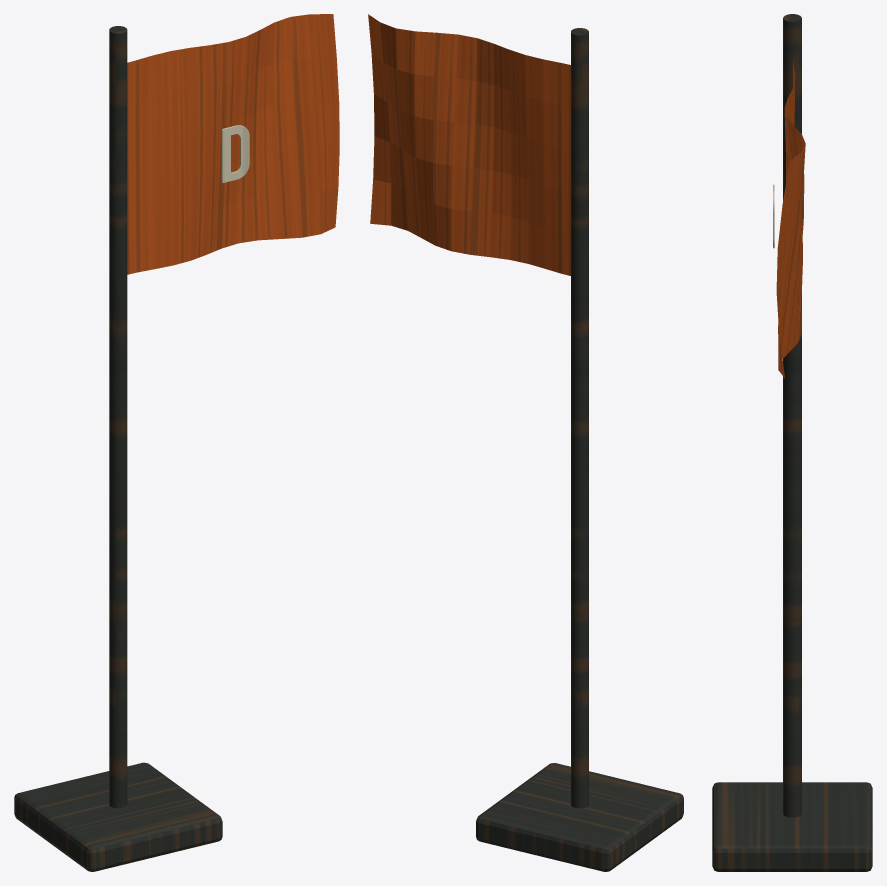
File: route-flag.obj
The picture shows the model from 3 angles, left to right: view 1: azimuth 30°, elevation 25°; view 2: azimuth 150°, elevation 25°; view 3: azimuth 270°, elevation 25°; orthographic projection. The views are drawn at different scales.
Parts seen in each view (by area): view 1: route-flag; view 2: route-flag; view 3: route-flag.
Part boxes in pixels (x1,y1,x2,y2): route-flag: (14, 14, 339, 871); route-flag: (368, 14, 683, 871); route-flag: (712, 14, 872, 871).
Size of the model in its own units: 1.25 by 3.4 by 0.6.
Materials: 1 (1 with a texture image).
